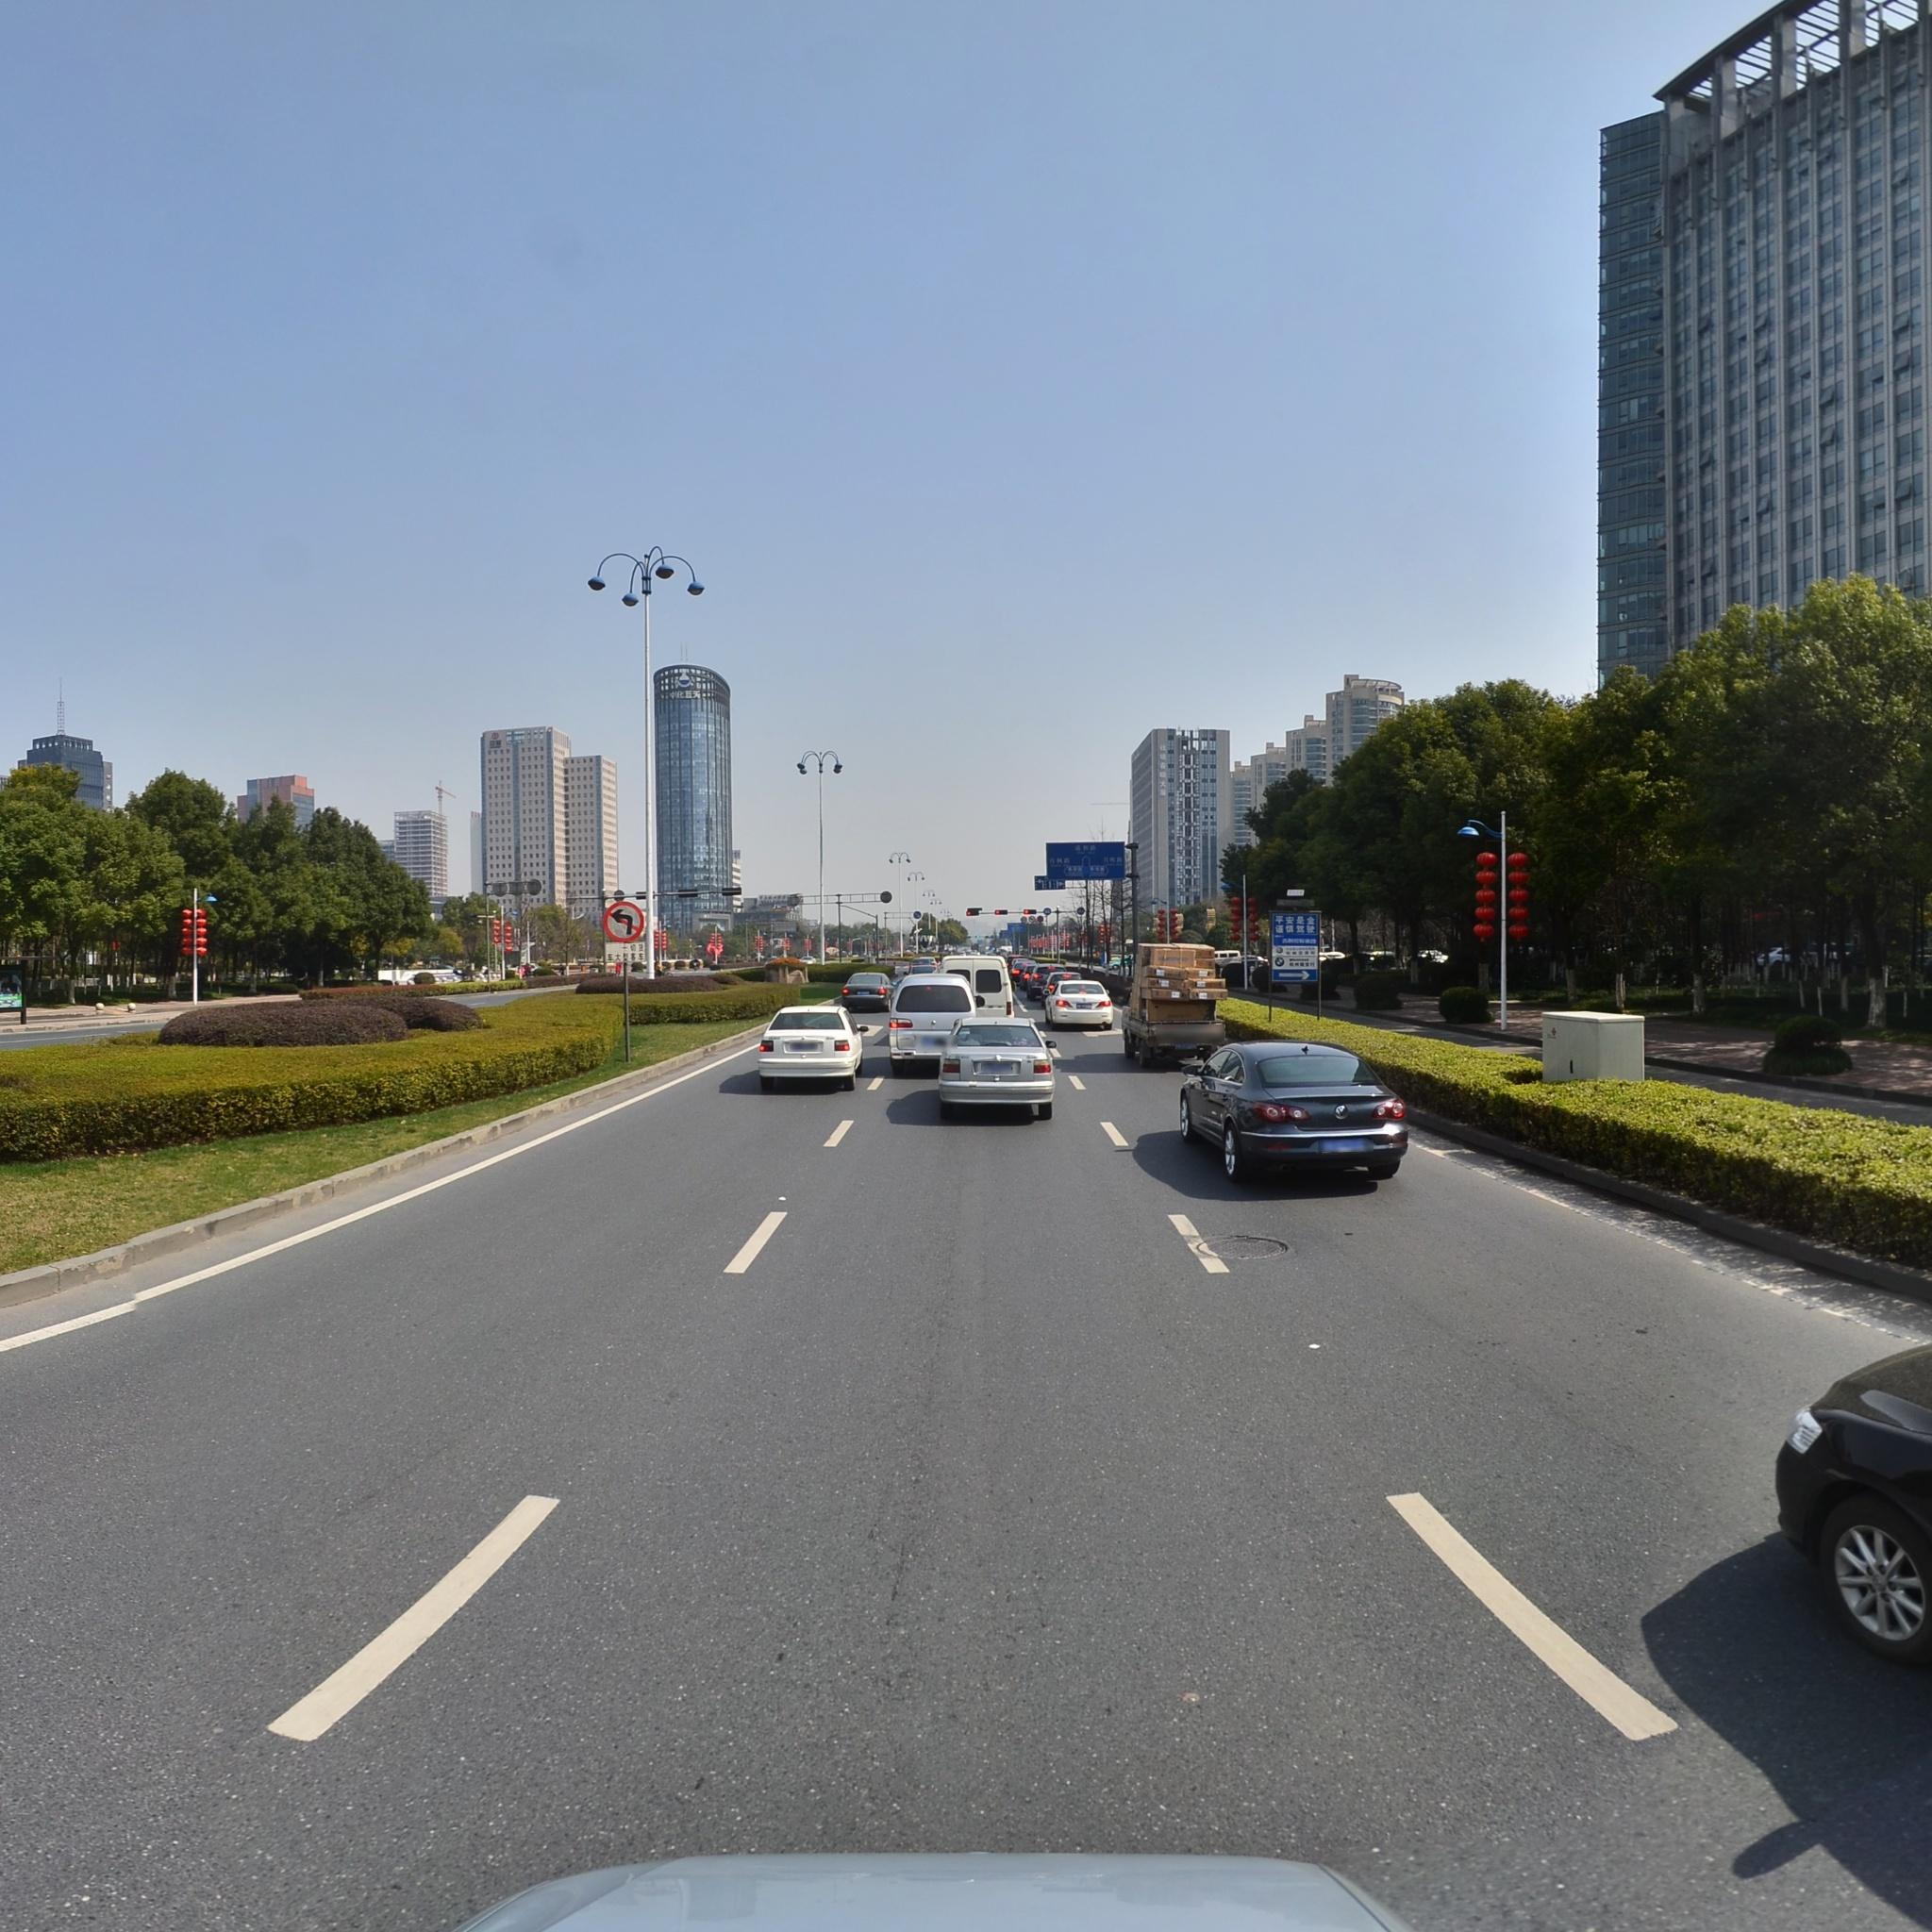p23: (605, 893, 646, 943)
